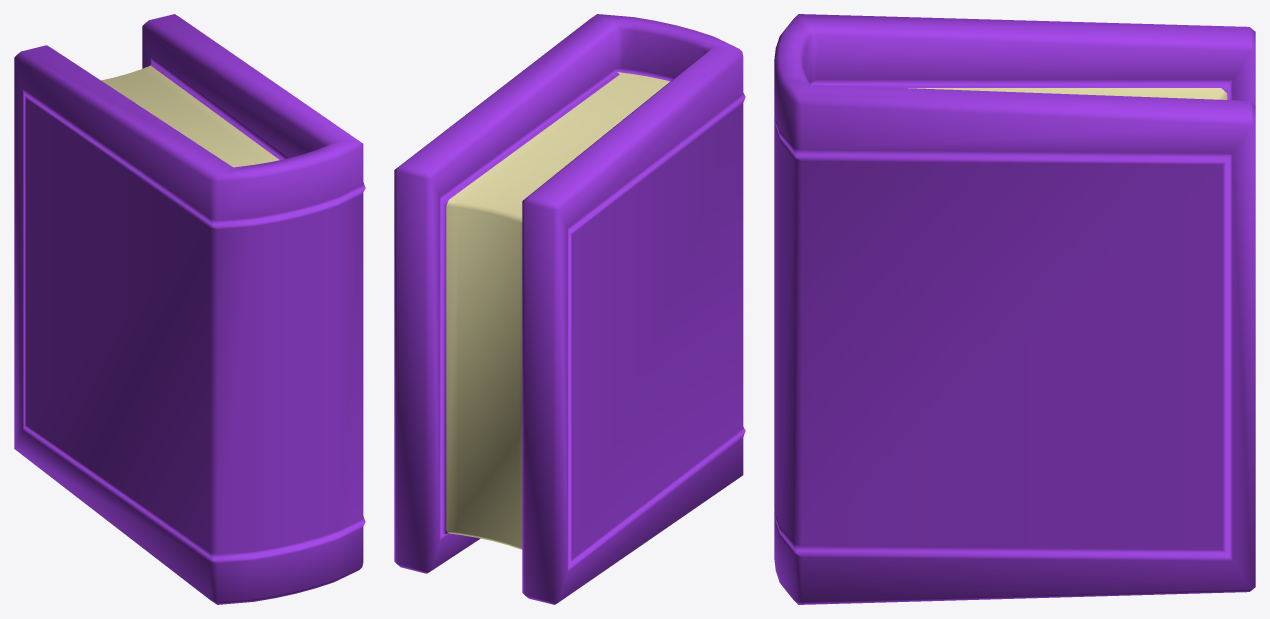
File: Book_Purple.fbx
The picture shows the model from 3 angles, left to right: view 1: azimuth 30°, elevation 25°; view 2: azimuth 150°, elevation 25°; view 3: azimuth 270°, elevation 25°; orthographic projection. The views are drawn at different scales.
Parts seen in each view (by area): view 1: Book.003; view 2: Book.003; view 3: Book.003.
Part boxes in pixels (x1,y1,x2,y2): Book.003: (14,14,365,604); Book.003: (394,14,745,604); Book.003: (774,14,1255,604).
Size of the model in its own units: 7.26 by 18.02 by 15.44.
